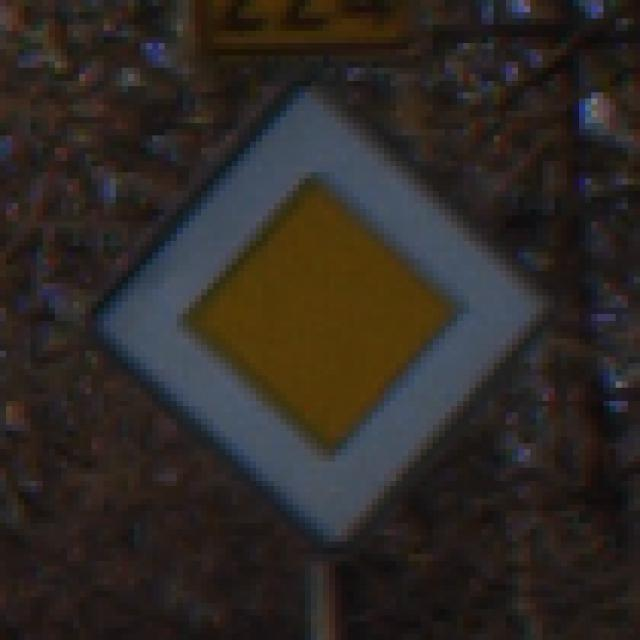Main Road: (62, 57, 586, 586)
